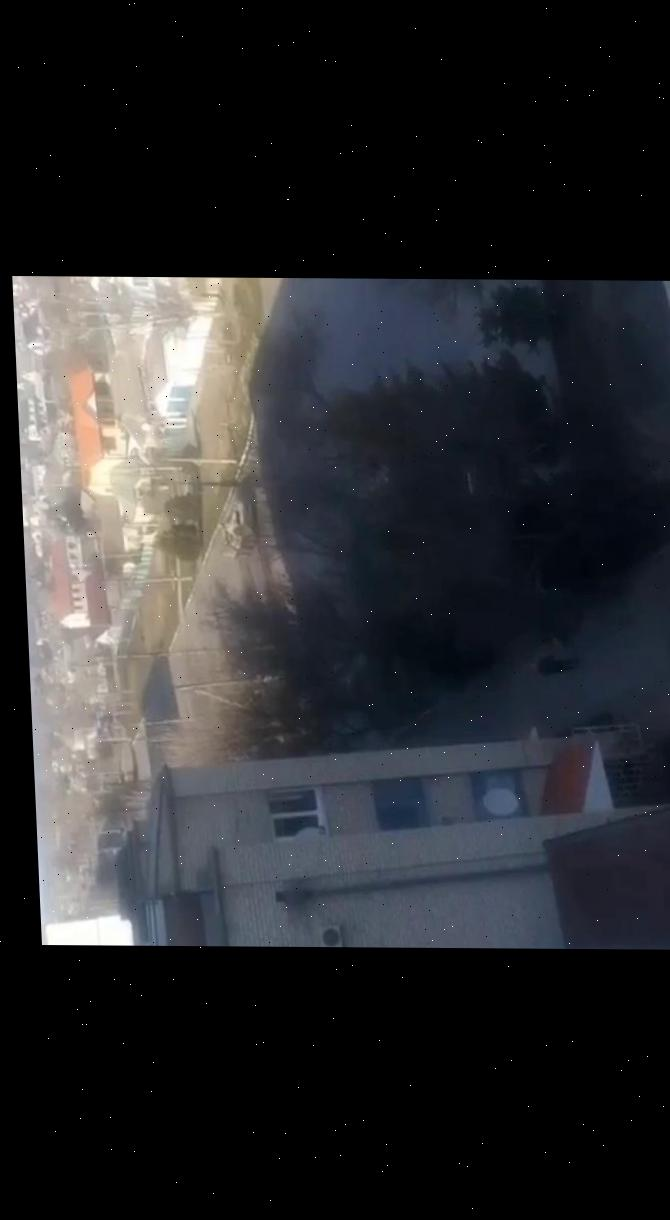person: (531, 653, 583, 676)
tank: (217, 497, 260, 559)
